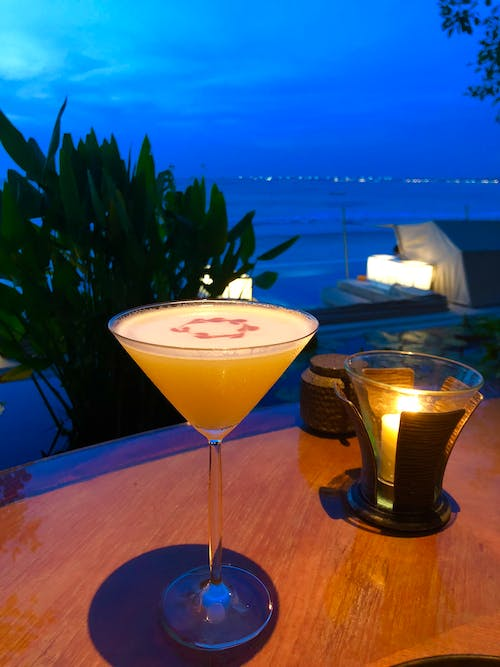alcohol: (105, 297, 320, 653)
